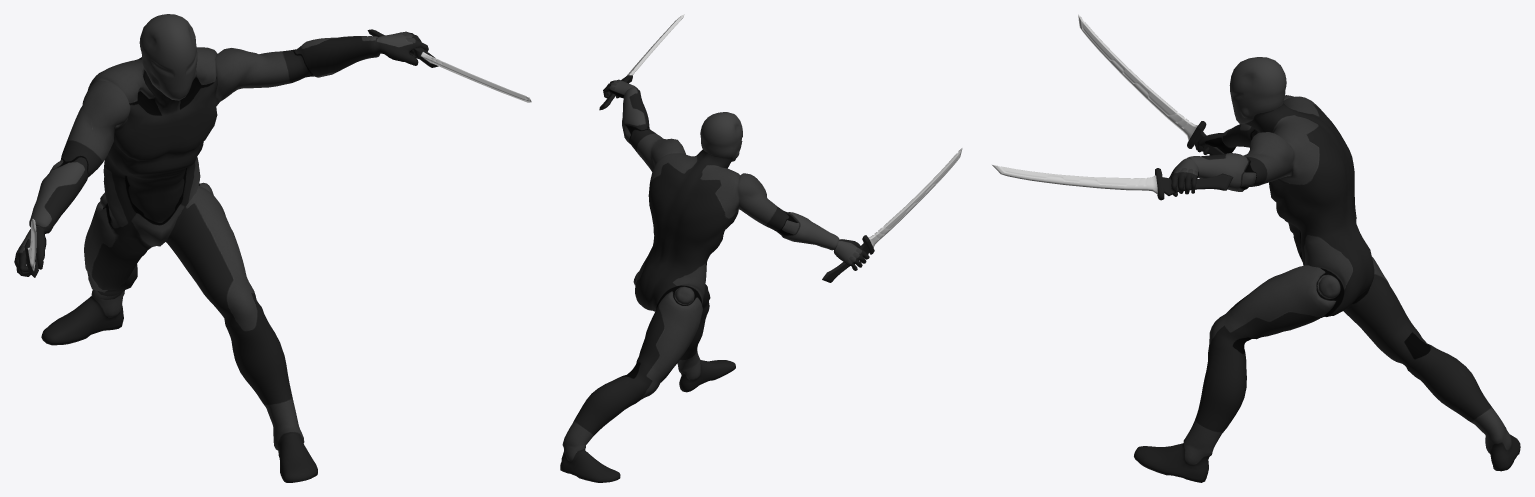
The picture shows the model from 3 angles, left to right: view 1: azimuth 30°, elevation 25°; view 2: azimuth 150°, elevation 25°; view 3: azimuth 270°, elevation 25°; orthographic projection. The views are drawn at different scales.
Visible parts, largest first — view 1: Cyborg_Ninja_Killer, Sword_l; view 2: Cyborg_Ninja_Killer, Sword_l001, Sword_l; view 3: Cyborg_Ninja_Killer, Sword_l, Sword_l001.
Part boxes in pixels (x1,y1,x2,y2): Cyborg_Ninja_Killer: (14,14,428,482); Sword_l: (367,29,531,102); Cyborg_Ninja_Killer: (560,79,869,482); Sword_l001: (822,148,962,282); Sword_l: (599,14,684,110); Cyborg_Ninja_Killer: (1134,57,1520,482); Sword_l: (992,165,1233,200); Sword_l001: (1078,14,1224,155).
Bounding box in the file's own units: 167 × 155 × 193.
2 materials, 2 textured.
